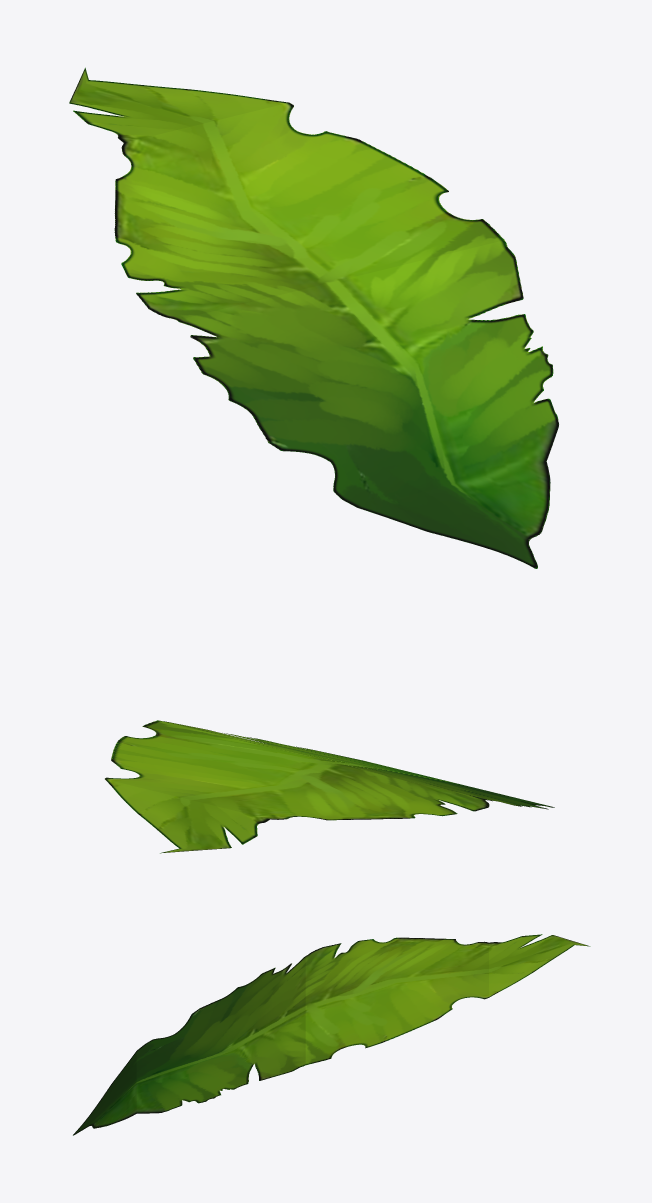
The model's file is Hemp_09.fbx.
The picture shows the model from 3 angles, top to bottom: view 1: azimuth 30°, elevation 25°; view 2: azimuth 150°, elevation 25°; view 3: azimuth 270°, elevation 25°; orthographic projection. The views are drawn at different scales.
Parts seen in each view (by area): view 1: Hemp_09; view 2: Hemp_09; view 3: Hemp_09.
Part boxes in pixels (x1,y1,x2,y2): Hemp_09: [69, 67, 558, 568]; Hemp_09: [105, 720, 554, 853]; Hemp_09: [73, 934, 590, 1135].
Size of the model in its own units: 41.08 by 28.7 by 78.85.
